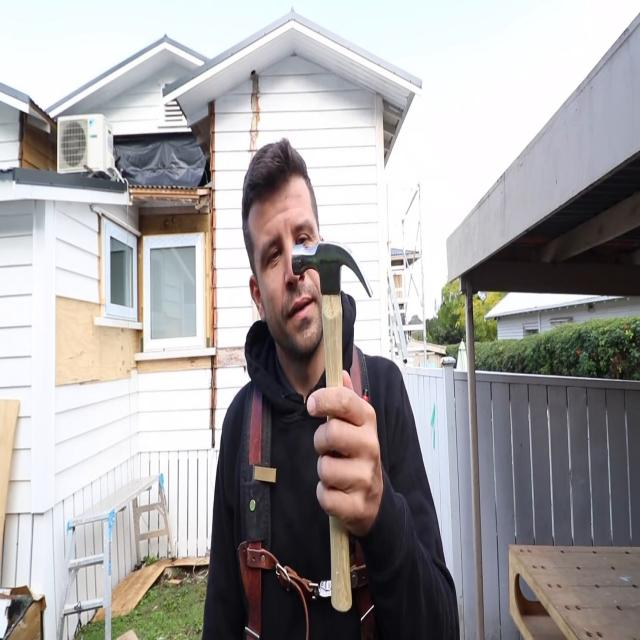hammer: (287, 240, 378, 615)
